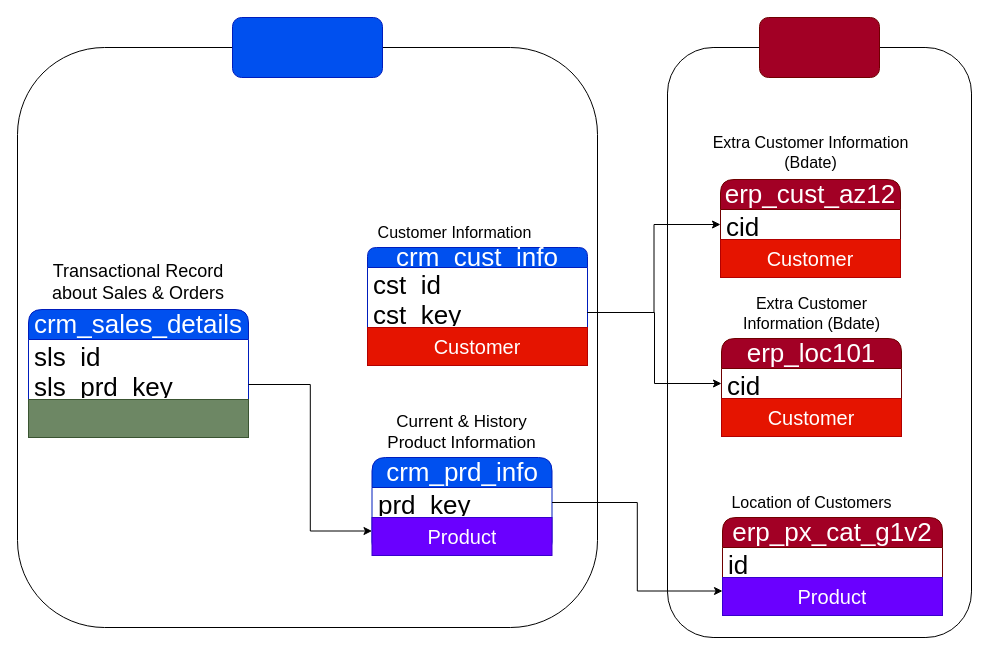
Image size: 989x655. Some labels were removed from this diagram. The shapes that lost their labels are listed below. From the top down, each one's centre as x and y in pixels, then its label:
At [307,47]: "CRM".
At [819,47]: "ERP".
At [138,418]: "Sales".
